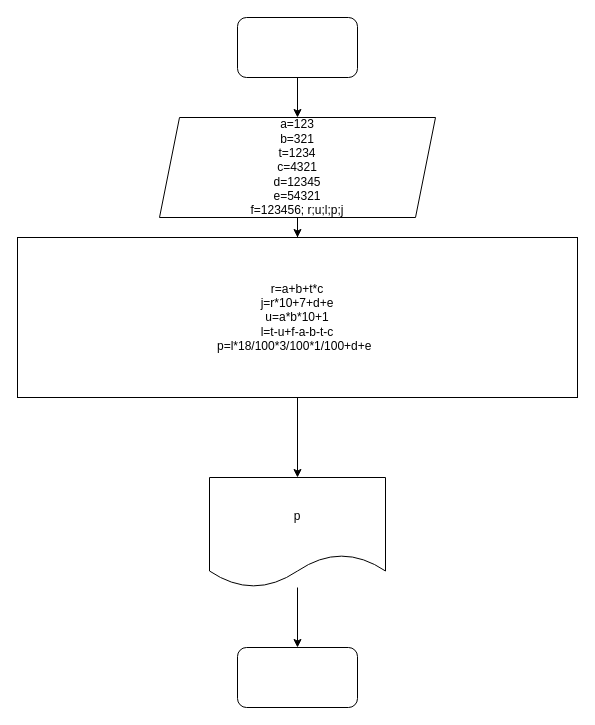
This 595x725 diagram has some shape labels left out. The shapes that lost their labels are listed below. From the top down, each one's centre as x and y in pixels, then its label:
At point (297, 47): "programm".
At point (297, 677): "finish".
